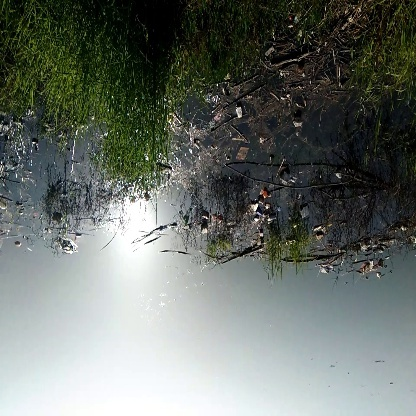branch: (226, 153, 397, 197)
